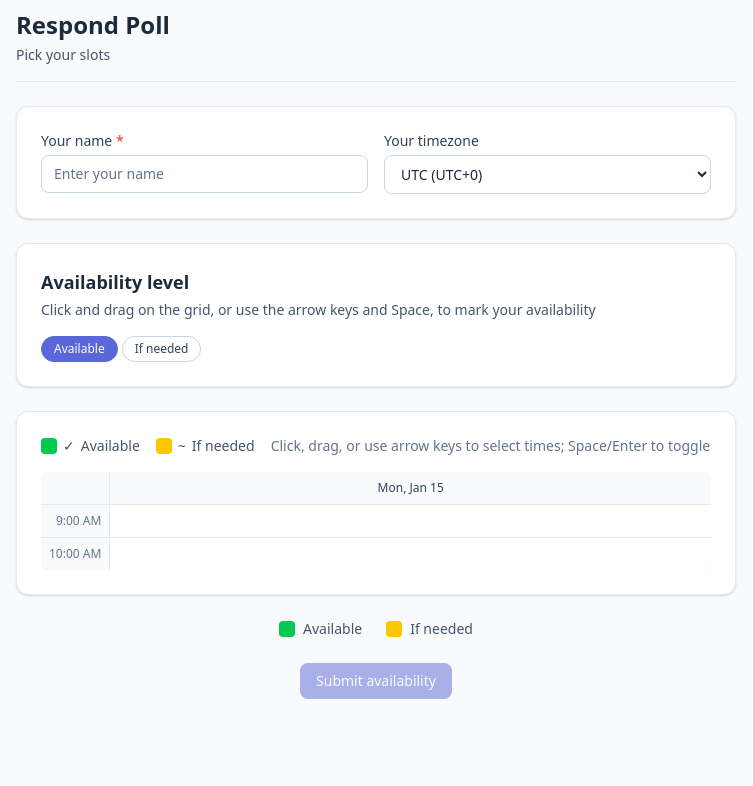
PollRespond - submission › shows an error banner when submission fails
Type "Carol" into the field labelled "Your name *" at (204, 174), box [41,155,368,193]
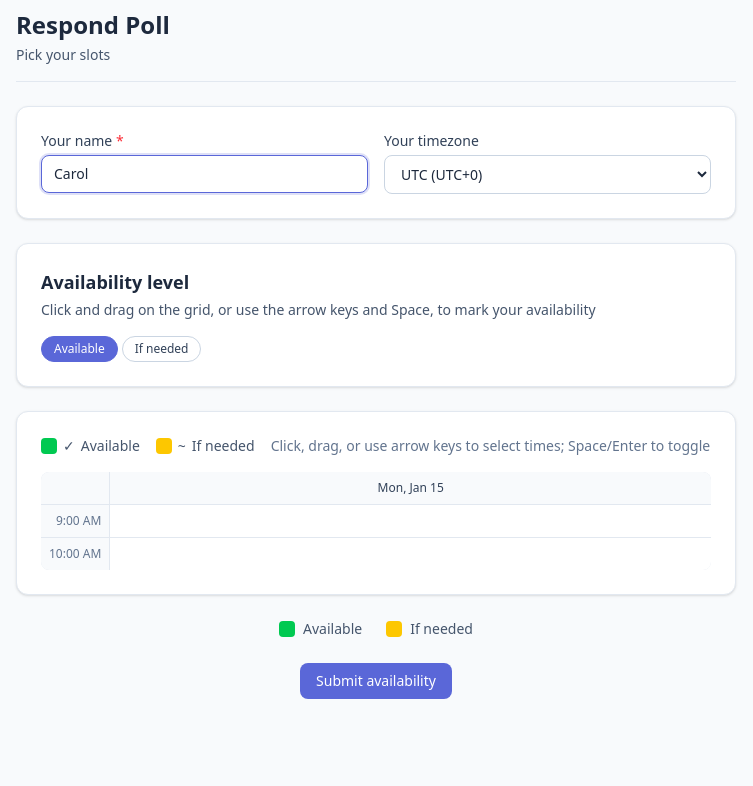
Click the button "Submit availability" at (376, 681), box [300,663,452,699]
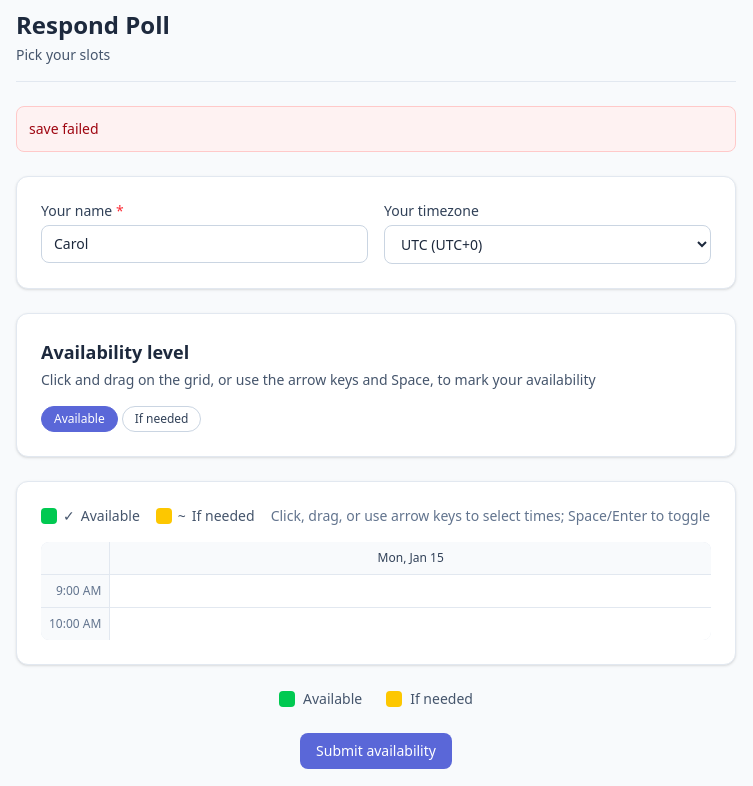
Expected: the text "save failed" is shown, [29,119,99,139]
